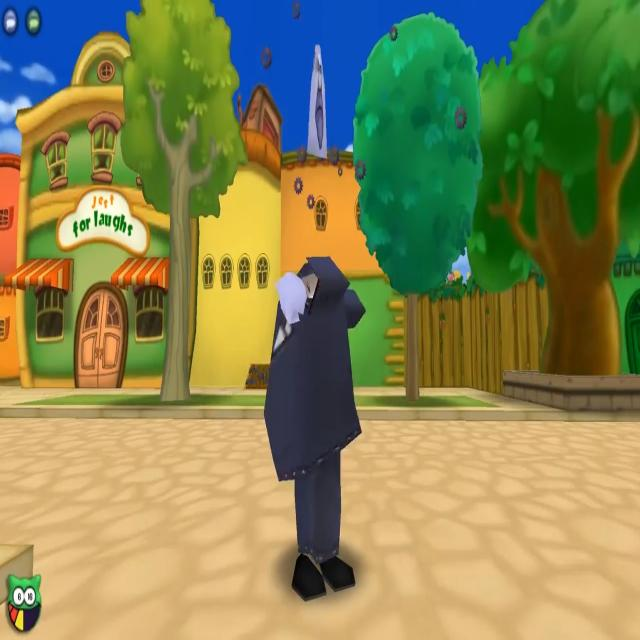bottomfeeder: (258, 35, 435, 608)
